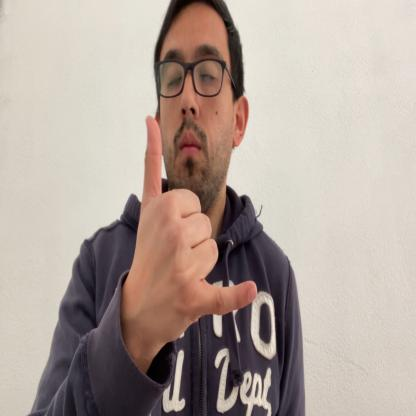Y: (129, 115, 258, 354)
